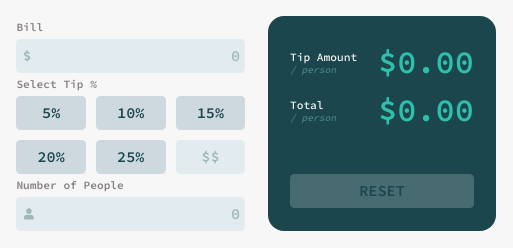
Test: Tip: Ten Percent
Type "10" into the field labelled "Number of People" at (131, 214), box [16, 196, 245, 231]
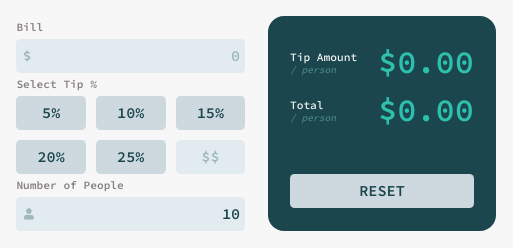
Type "500" into the field labelled "Bill" at (131, 56), box [16, 39, 245, 73]
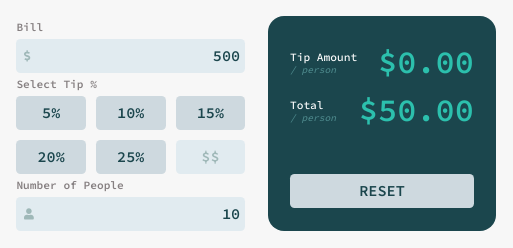
Click the button "10%" at (131, 113), box [96, 96, 166, 130]
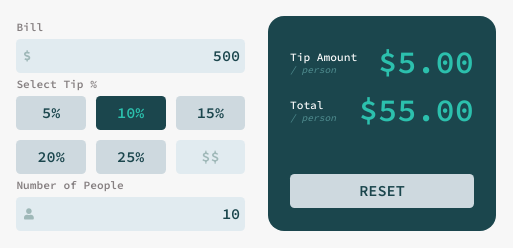
Result: the text with test id "subtotal-amount-bill" reads "$55.00" at [359, 98, 474, 124]
Result: the text with test id "subtotal-amount-tip" reads "$5.00" at [378, 50, 474, 76]
